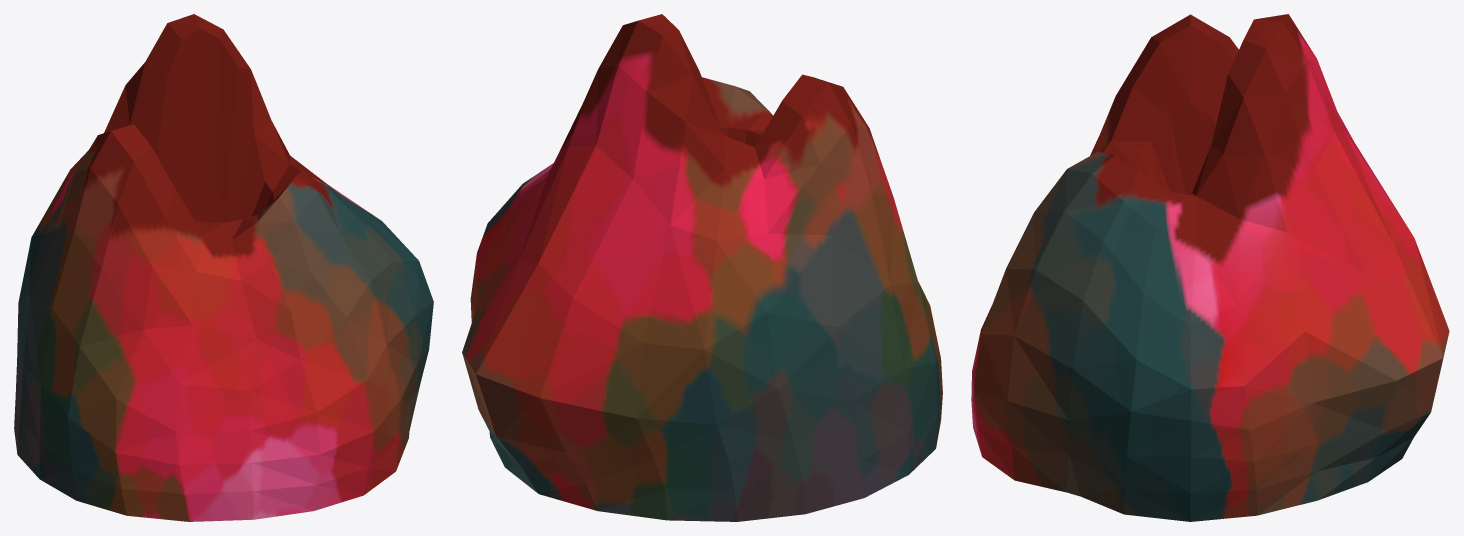
Rendered from geyser_02.fbx.
3 renders of one model, left to right at view 1: azimuth 30°, elevation 25°; view 2: azimuth 150°, elevation 25°; view 3: azimuth 270°, elevation 25°, orthographic. The views are drawn at different scales.
Parts seen in each view (by area): view 1: polySurface_geyser2; view 2: polySurface_geyser2; view 3: polySurface_geyser2.
Part boxes in pixels (x1,y1,x2,y2): polySurface_geyser2: (14, 14, 433, 521); polySurface_geyser2: (462, 14, 942, 521); polySurface_geyser2: (971, 14, 1449, 521).
Bounding box in the file's own units: 3.02 × 2.99 × 3.08.
